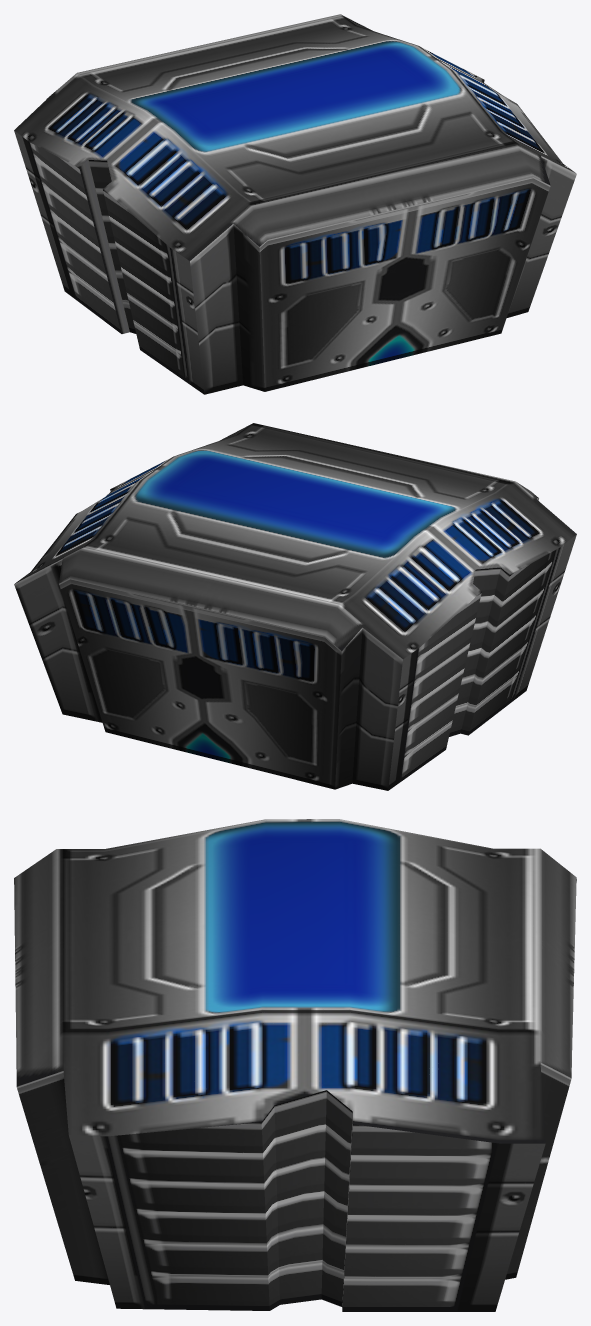
Rendered from ammo_blue.FBX.
3 views of the same model, one above another, from view 1: azimuth 30°, elevation 25°; view 2: azimuth 150°, elevation 25°; view 3: azimuth 270°, elevation 25° (orthographic). The views are drawn at different scales.
Visible parts, largest first — view 1: Plane01; view 2: Plane01; view 3: Plane01.
Part boxes in pixels (x1,y1,x2,y2): Plane01: [14, 14, 576, 394]; Plane01: [14, 423, 576, 790]; Plane01: [14, 819, 576, 1311].
Size of the model in its own units: 7.05 by 3.49 by 6.14.
Materials: 1 (1 with a texture image).
